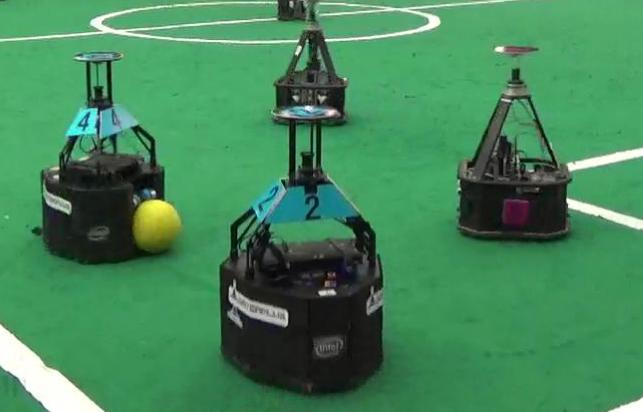robot: (213, 103, 387, 400), (34, 45, 171, 264), (452, 42, 573, 242), (268, 1, 354, 126)
